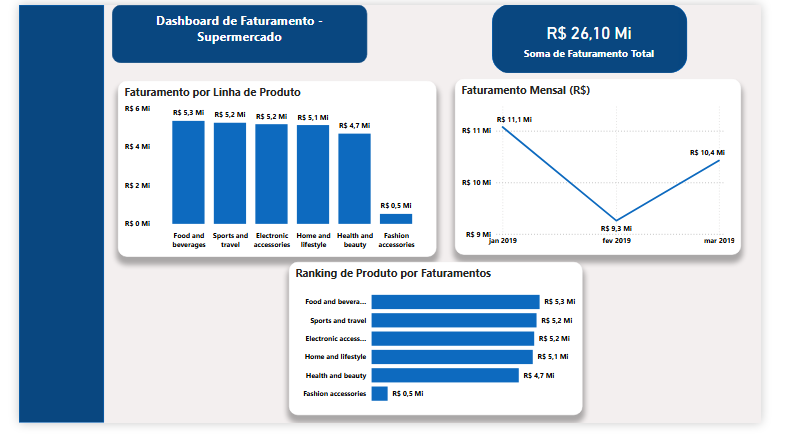

The dashboard page shown, as its layout file describes it:
{"tool":"powerbi","page":{"name":"Página 1","canvas":[1280,720],"ordinal":0},"visuals":[{"type":"clusteredColumnChart","title":"Faturamento por Linha de Produto","fields":{"Y":["Sum(resumo_faturamento_por_produto.Faturamento)"],"Category":["resumo_faturamento_por_produto.Linha_Produto"]},"box":[171.5,130.4,548.5,303.3],"z":0},{"type":"lineChart","title":"Faturamento Mensal (R$)","fields":{"Y":["Sum(resumo_faturamento_mensal.Faturamento)"],"Category":["resumo_faturamento_mensal.Mes_Ano.Variation.Hierarquia de datas.Ano","resumo_faturamento_mensal.Mes_Ano.Variation.Hierarquia de datas.Mês"]},"box":[751.2,127.6,493.2,303.3],"z":1000},{"type":"clusteredBarChart","title":"Ranking de Produto por Faturamentos","fields":{"Category":["ranking_produtos.Linha de Produto"],"Y":["Sum(ranking_produtos.Faturamento Total)"]},"box":[466.3,443.6,506,263.6],"z":2000},{"type":"shape","box":[0,0,146.7,720],"z":3000},{"type":"textbox","box":[160,0,440,100],"z":4000},{"type":"shape","box":[815,0,336.7,116.7],"z":4500},{"type":"card","fields":{"Values":["Sum(ranking_produtos.Faturamento Total)"]},"box":[826.7,0,313.3,116.7],"z":5000}]}

Visuals, with their boxes in screenshot pixels (x1, y1, x2, y2), scaled from the page's 1280x720 canvas onto the 802x439 screenshot:
"Faturamento por Linha de Produto" clusteredColumnChart: 107, 80, 451, 264
"Faturamento Mensal (R$)" lineChart: 471, 78, 780, 263
"Ranking de Produto por Faturamentos" clusteredBarChart: 292, 270, 609, 431
shape: 0, 0, 92, 438
textbox: 100, 0, 376, 61
shape: 511, 0, 722, 71
card - Sum(ranking_produtos.Faturamento Total): 518, 0, 714, 71
